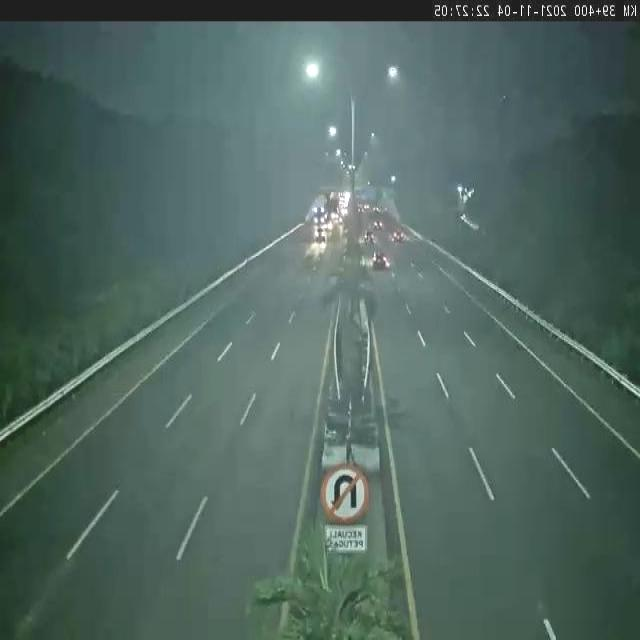Car: (371, 245, 393, 273), (389, 223, 412, 249), (360, 229, 377, 249)
